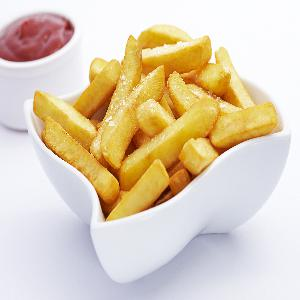fries_350cal: (23, 22, 297, 239)
